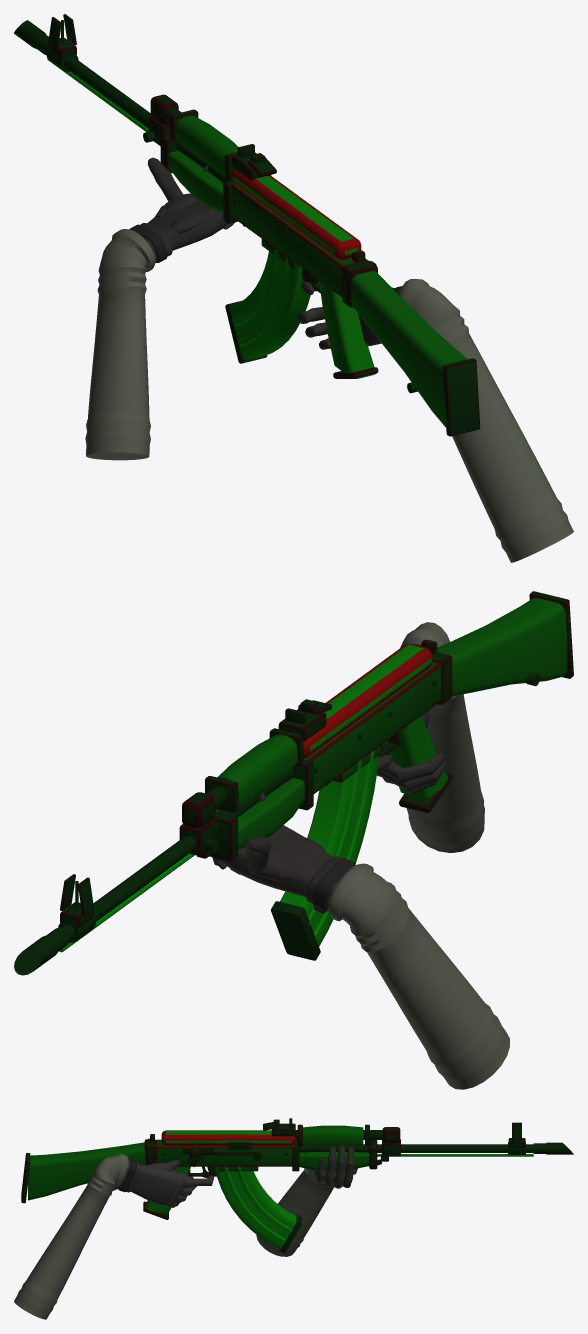
The picture shows the model from 3 angles, top to bottom: view 1: azimuth 30°, elevation 25°; view 2: azimuth 150°, elevation 25°; view 3: azimuth 270°, elevation 25°; orthographic projection. The views are drawn at different scales.
Visible parts, largest first — view 1: AK47, ArmR, ArmL, Mag, HandL, HandR; view 2: AK47, ArmL, ArmR, Mag, HandL, HandR; view 3: AK47, ArmR, Mag, HandR, ArmL, HandL.
Boxes of the visible parts, left/top/right/bottom form: AK47: left=14, top=14, right=480, bottom=436; ArmR: left=399, top=279, right=573, bottom=562; ArmL: left=85, top=229, right=155, bottom=460; Mag: left=225, top=249, right=310, bottom=363; HandL: left=129, top=157, right=234, bottom=262; HandR: left=297, top=281, right=402, bottom=349; AK47: left=14, top=591, right=573, bottom=975; ArmL: left=328, top=863, right=509, bottom=1089; ArmR: left=400, top=622, right=484, bottom=852; Mag: left=270, top=746, right=380, bottom=960; HandL: left=212, top=793, right=355, bottom=913; HandR: left=376, top=710, right=446, bottom=794; AK47: left=21, top=1118, right=573, bottom=1219; ArmR: left=14, top=1153, right=128, bottom=1319; Mag: left=215, top=1166, right=301, bottom=1253; HandR: left=117, top=1159, right=213, bottom=1207; ArmL: left=256, top=1168, right=334, bottom=1256; HandL: left=314, top=1145, right=357, bottom=1188.
Size of the model in its own units: 0.396 by 0.3839 by 1.12.
